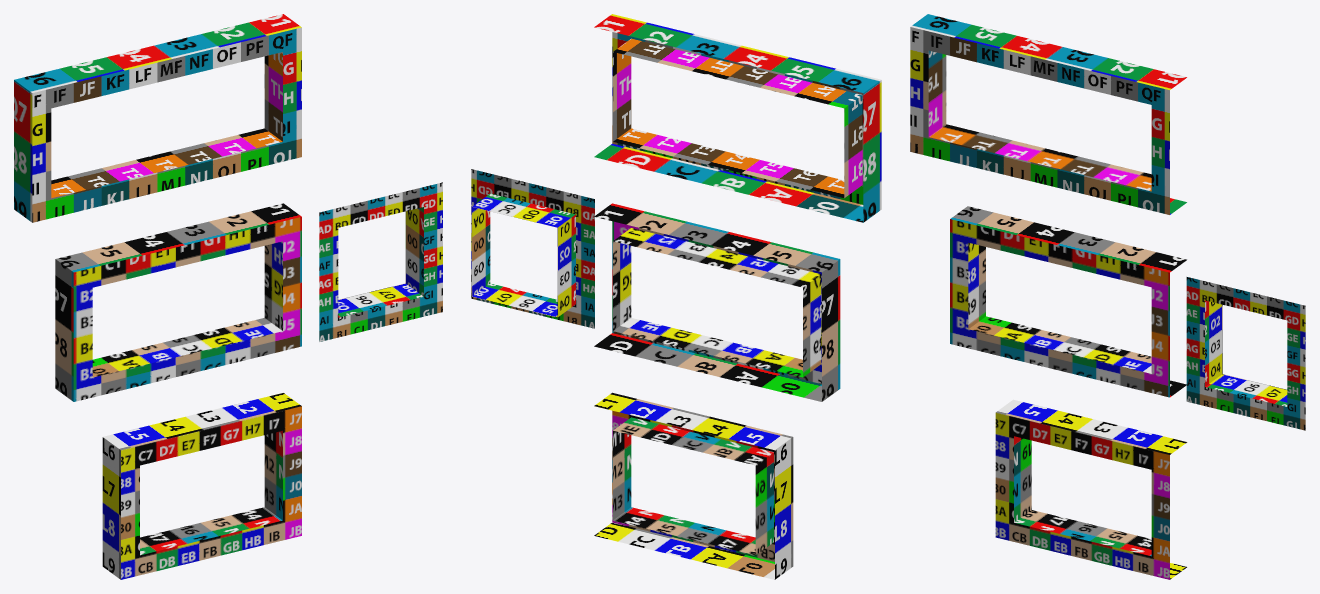
The model's file is decoration.FBX.
The picture shows the model from 3 angles, left to right: view 1: azimuth 30°, elevation 25°; view 2: azimuth 150°, elevation 25°; view 3: azimuth 330°, elevation 25°; orthographic projection. The views are drawn at different scales.
Visible parts, largest first — view 1: part1, part2, part3, part4; view 2: part1, part2, part3, part4; view 3: part1, part2, part3, part4.
Boxes of the visible parts, x1,y1,x2,y2 form: part1: [14, 14, 301, 222]; part2: [55, 203, 301, 401]; part3: [102, 393, 301, 579]; part4: [319, 182, 442, 341]; part1: [594, 14, 881, 222]; part2: [594, 203, 840, 401]; part3: [594, 392, 793, 579]; part4: [471, 169, 594, 328]; part1: [910, 14, 1186, 214]; part2: [950, 206, 1186, 397]; part3: [995, 399, 1187, 579]; part4: [1186, 277, 1305, 430].
Size of the model in its own units: 1.72 by 2.03 by 0.1328.
Materials: 1 (1 with a texture image).
